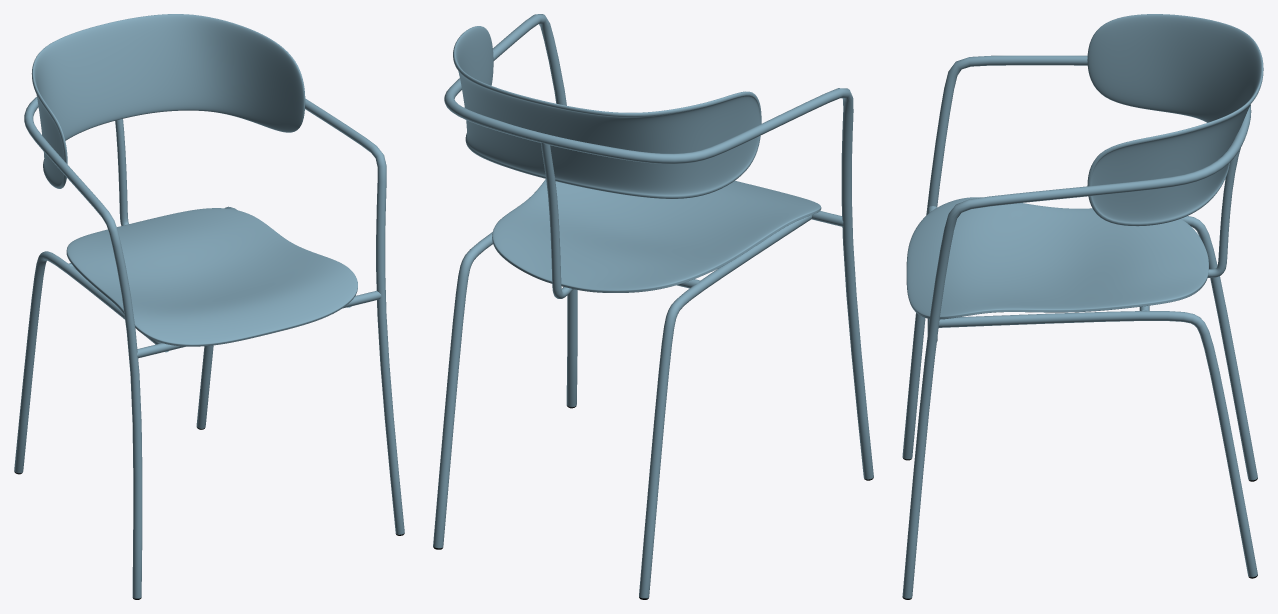
Rendered from chair_07_02.001.fbx.
3 views of the same model, side by side, from view 1: azimuth 30°, elevation 25°; view 2: azimuth 150°, elevation 25°; view 3: azimuth 270°, elevation 25° (orthographic). The views are drawn at different scales.
Parts seen in each view (by area): view 1: chair_07_02.001; view 2: chair_07_02.001; view 3: chair_07_02.001.
Boxes of the visible parts, box(x1,y1,x2,y2) form: chair_07_02.001: box(14, 14, 404, 599); chair_07_02.001: box(433, 14, 873, 599); chair_07_02.001: box(902, 14, 1263, 599).
Bounding box in the file's own units: 55.69 × 81.34 × 57.68.
Materials: 1 (1 with a texture image).
